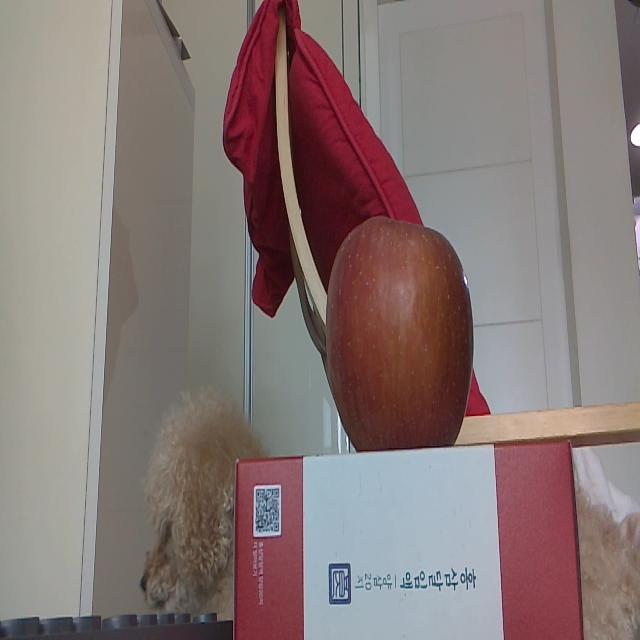apple: (324, 214, 478, 452)
